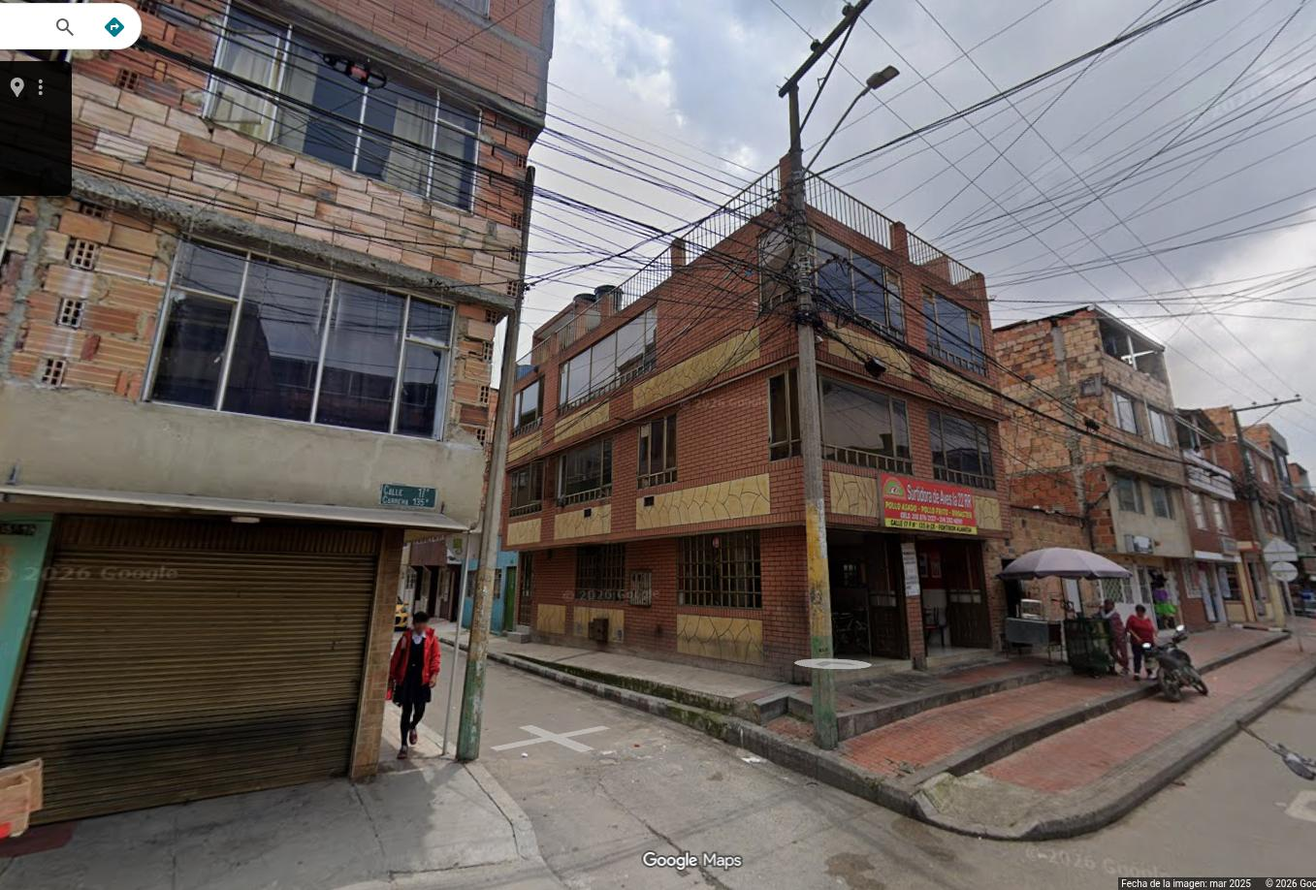casa: (0, 0, 553, 820), (502, 157, 1013, 678), (997, 307, 1190, 600)
poste: (779, 0, 870, 658), (780, 0, 869, 658), (454, 253, 527, 761), (1231, 407, 1268, 546), (811, 667, 837, 747), (850, 65, 898, 108), (815, 669, 838, 749), (1243, 398, 1300, 418), (523, 167, 534, 251), (1268, 590, 1285, 627)
